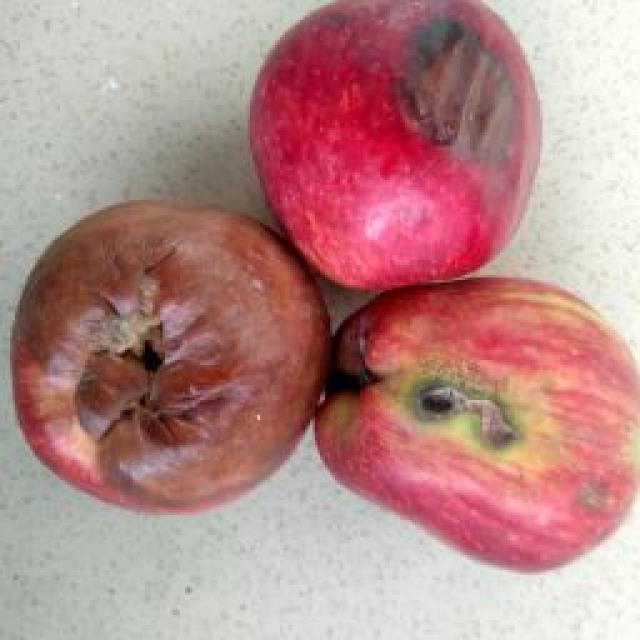Bad_Apple: (12, 202, 329, 512), (316, 278, 640, 569), (252, 0, 541, 289)
